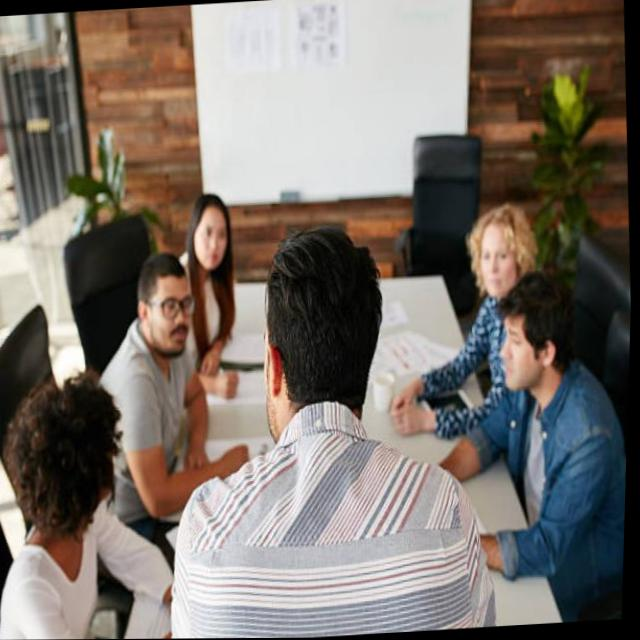no helmet: (258, 220, 396, 443)
